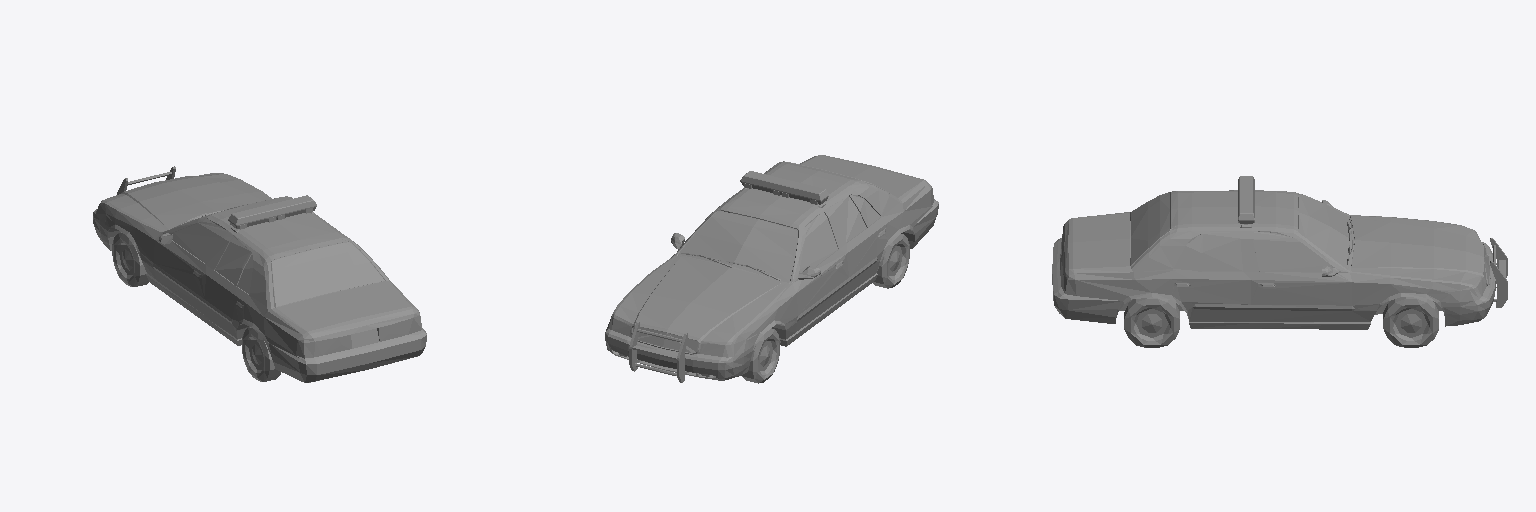
File: Police_car.obj
3 views of the same model, side by side, from view 1: azimuth 30°, elevation 25°; view 2: azimuth 150°, elevation 25°; view 3: azimuth 270°, elevation 25° (orthographic).
Visible parts, largest first — view 1: (null); view 2: (null); view 3: (null).
Part boxes in pixels (left/top/right/bottom): (null): left=93, top=166, right=426, bottom=382; (null): left=605, top=155, right=938, bottom=383; (null): left=1052, top=176, right=1507, bottom=347.
Bounding box in the file's own units: 222 × 177 × 593.